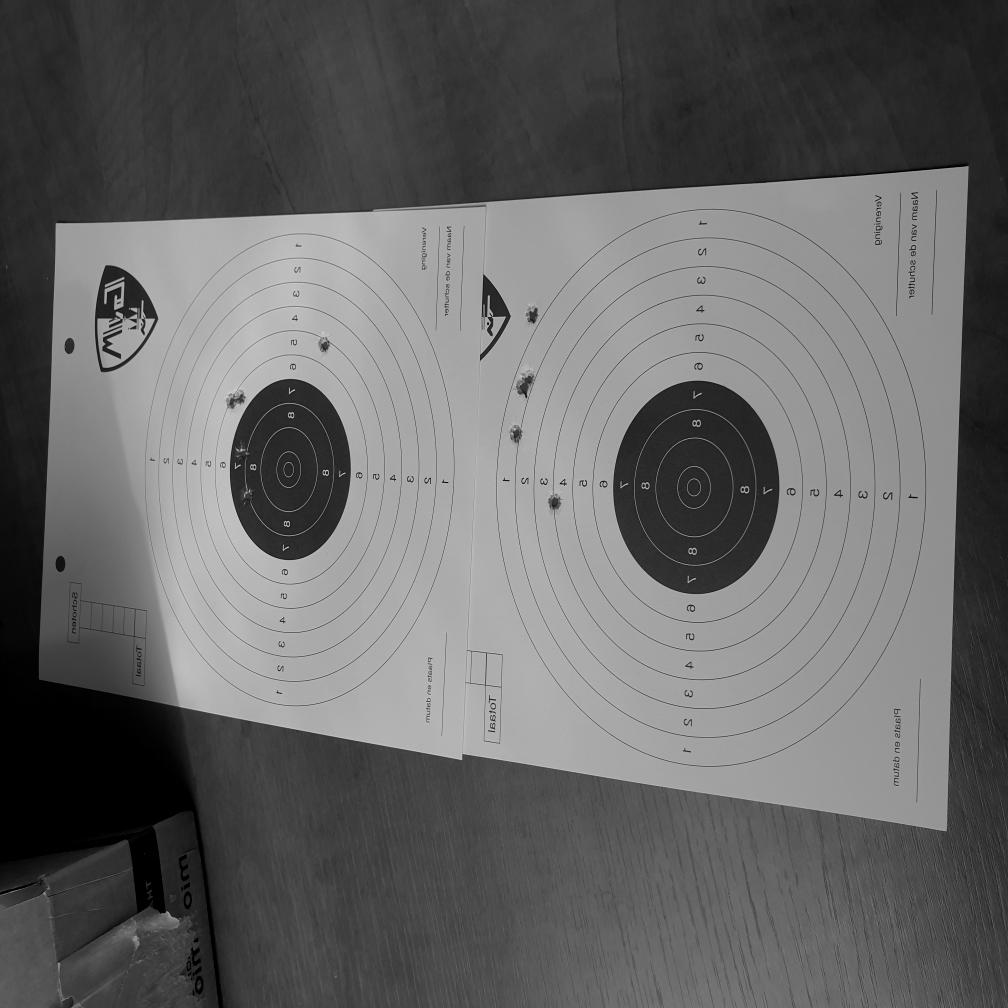0: (524, 303, 540, 325)
1: (514, 381, 530, 398), (522, 368, 536, 384)
2: (508, 423, 523, 445)
4: (548, 492, 562, 512)
5: (316, 333, 332, 356)
6: (225, 391, 236, 410), (236, 388, 247, 406)
8: (234, 443, 250, 463), (241, 487, 255, 508)
Target: (495, 204, 926, 771), (145, 230, 453, 708)
black_contour: (612, 379, 779, 597), (229, 378, 351, 561)
